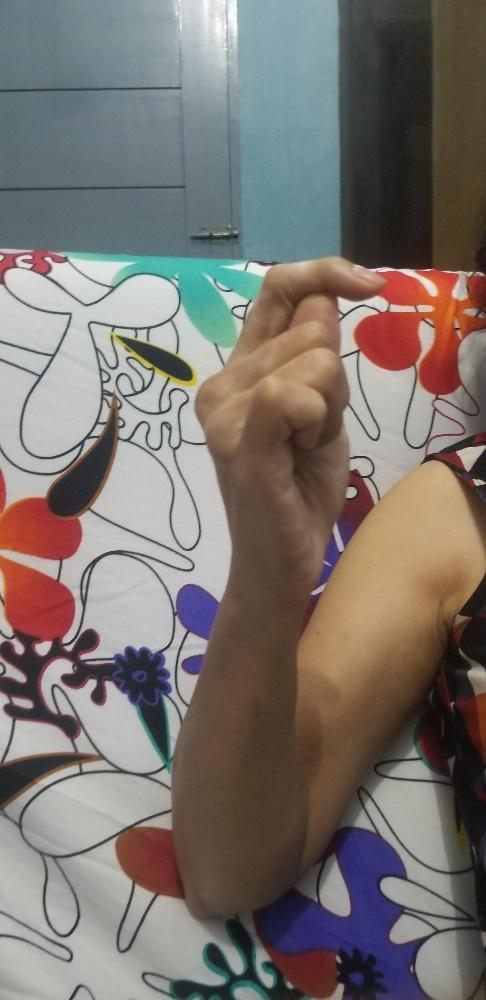t: (190, 251, 386, 588)
